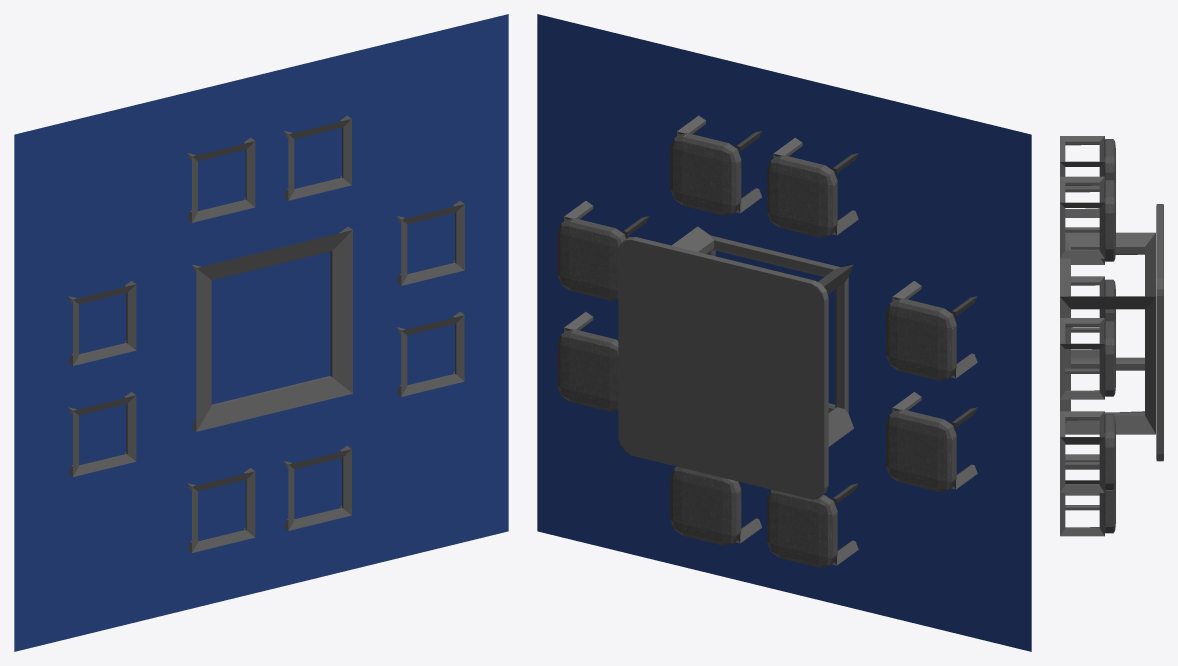
File: LoungeRoom_TeaTable.fbx
3 renders of one model, left to right at view 1: azimuth 30°, elevation 25°; view 2: azimuth 150°, elevation 25°; view 3: azimuth 270°, elevation 25°, orthographic. The views are drawn at different scales.
Visible parts, largest first — view 1: Plane.280, teatable; view 2: Plane.280, teatable; view 3: teatable.
Boxes of the visible parts, x1,y1,x2,y2 form: Plane.280: (14,14,508,651); teatable: (68,115,464,552); Plane.280: (537,14,1031,651); teatable: (557,115,977,567); teatable: (1060,136,1163,536).
Size of the model in its own units: 6 by 6 by 1.3.
